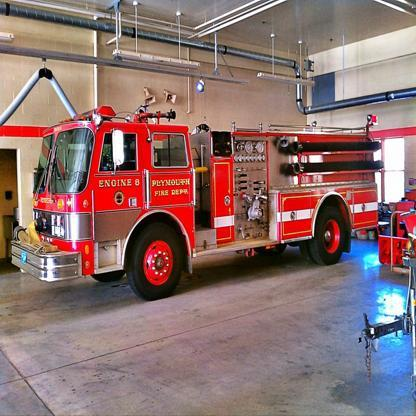fire-truck: (4, 103, 402, 325)
